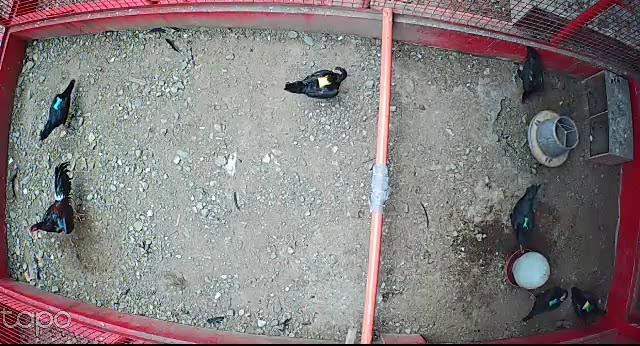Chicken: (506, 183, 547, 255), (38, 74, 79, 143), (281, 64, 350, 102), (507, 45, 548, 107), (520, 278, 570, 323), (569, 286, 613, 323)
Feeder: (526, 111, 578, 167), (504, 248, 551, 286)
Rooster: (27, 157, 84, 237)
Saddle_Color_Blue: (54, 96, 64, 109)
Saddle_Color_Yellow: (318, 74, 332, 87)
Saddle_Color_YellowGreen: (582, 302, 592, 311)
